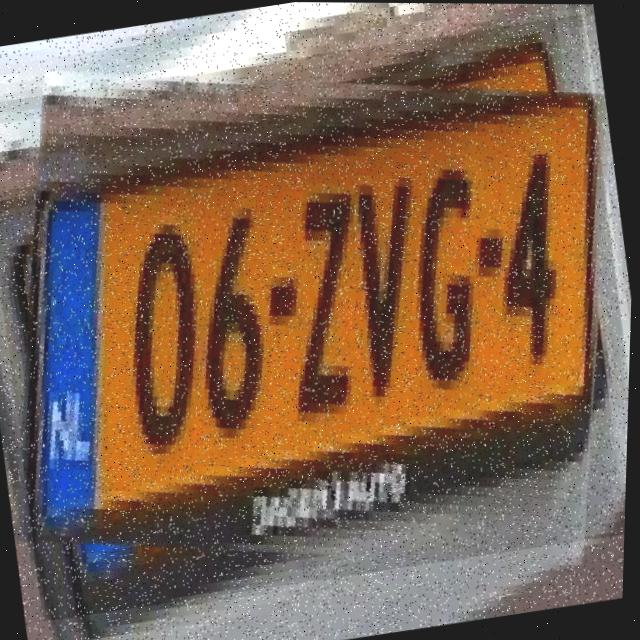LicensePlate: (0, 10, 640, 625)
